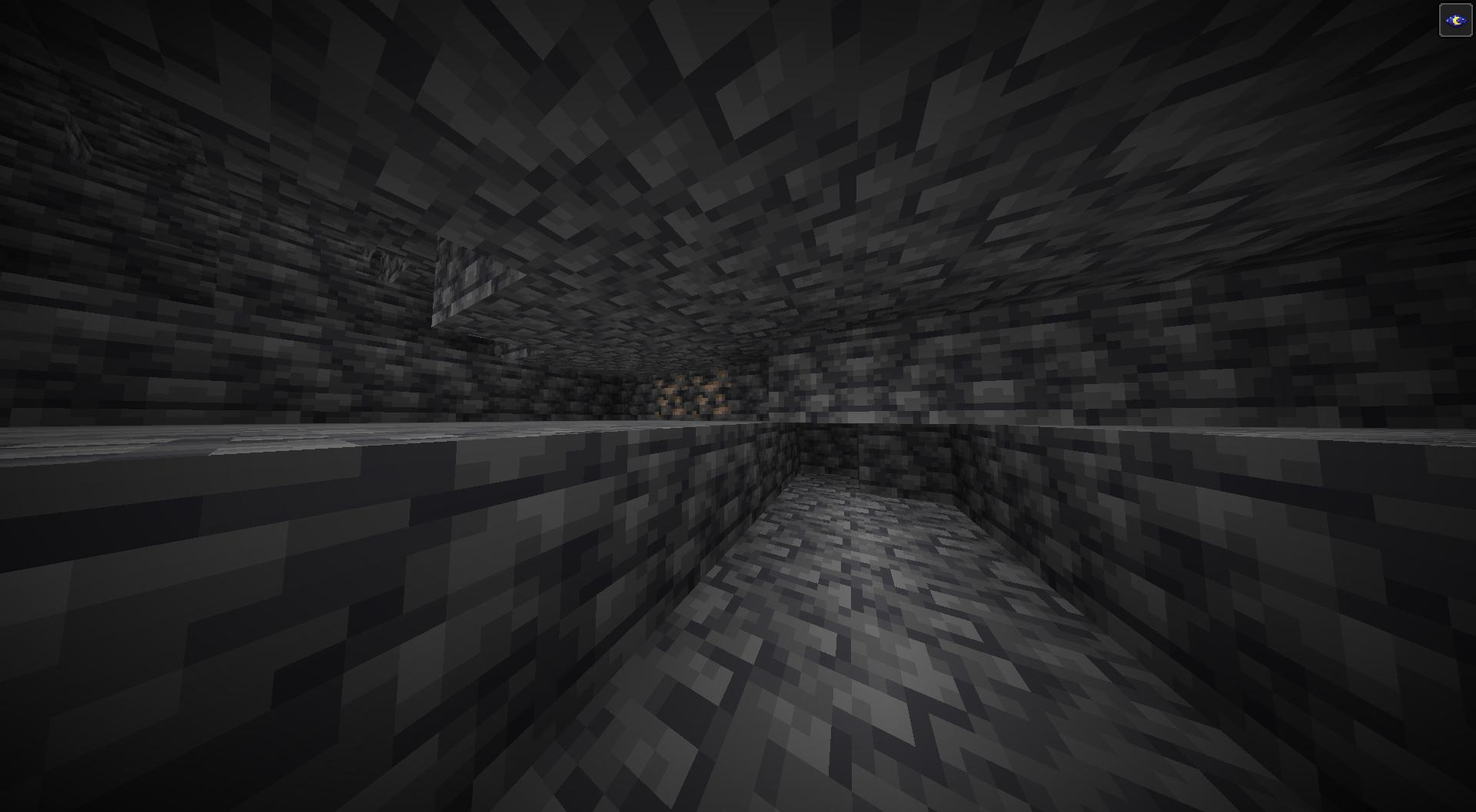iron ore: (687, 371, 738, 426), (649, 375, 690, 417)
